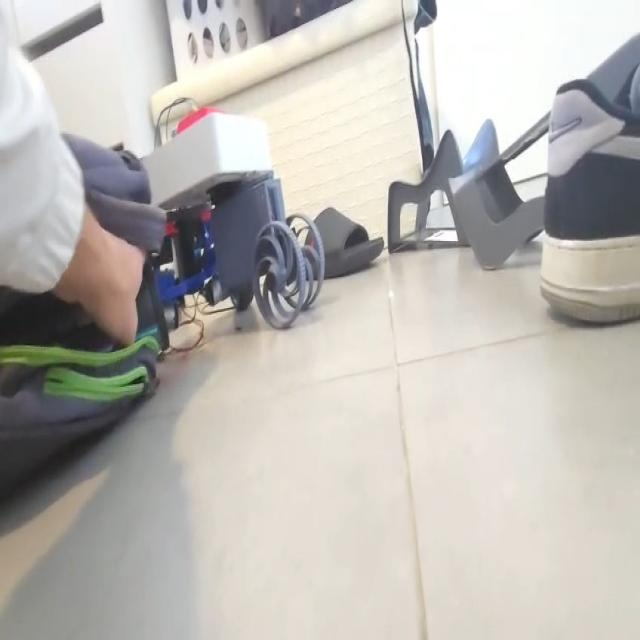Robot: (138, 105, 326, 332)
